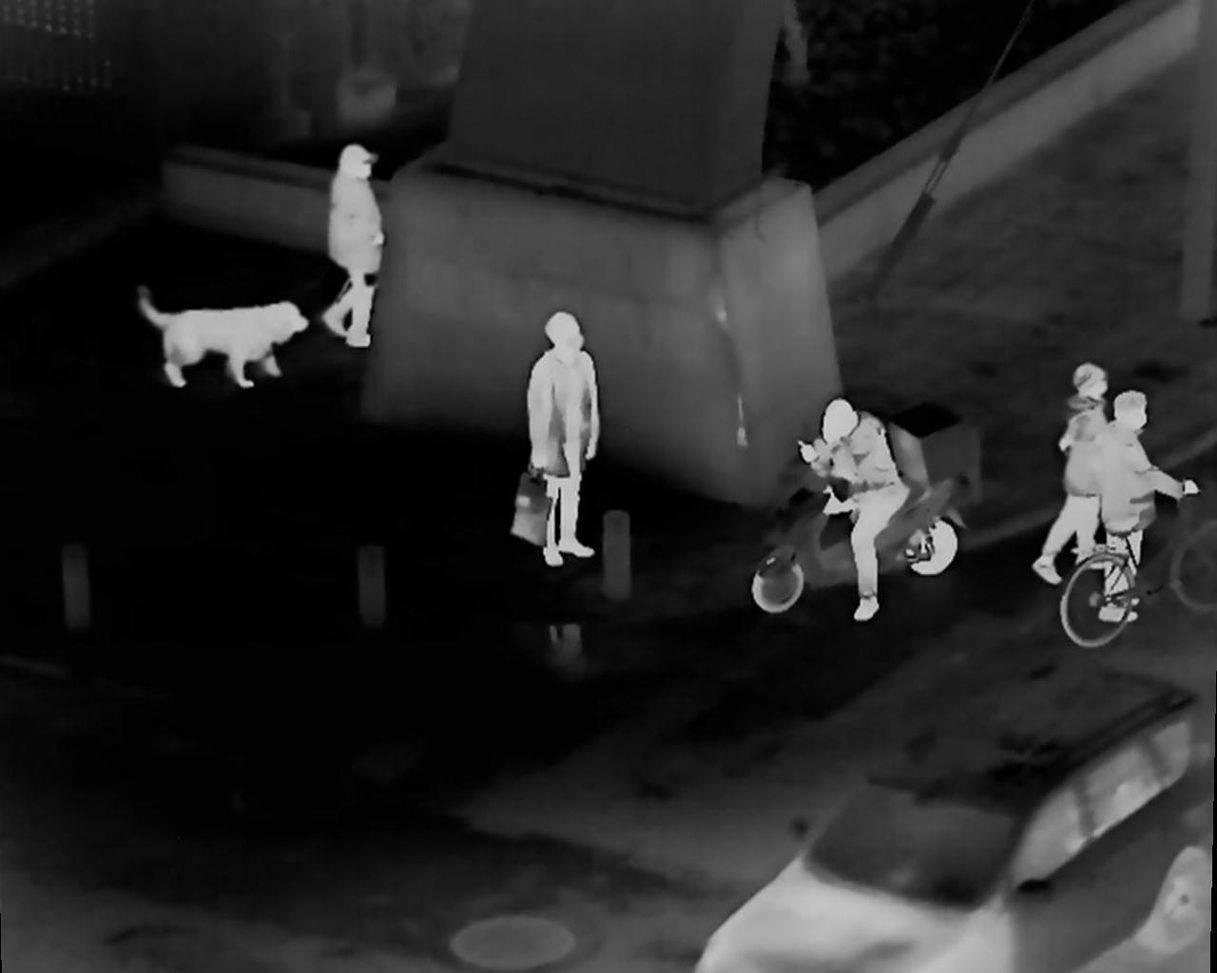person: (806, 402, 927, 626), (531, 304, 610, 570), (1097, 383, 1172, 614), (1043, 359, 1104, 594), (329, 151, 388, 340)
